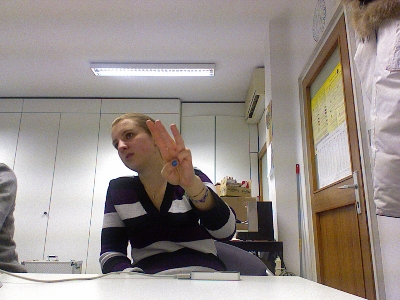三分: (143, 116, 195, 187)
